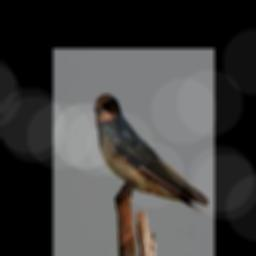Swallow: (94, 95, 209, 209)
